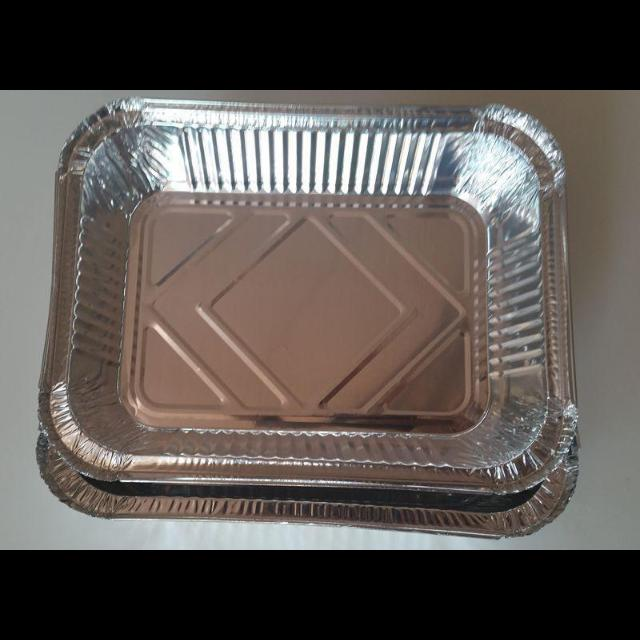plastic_box: (33, 91, 579, 538)
